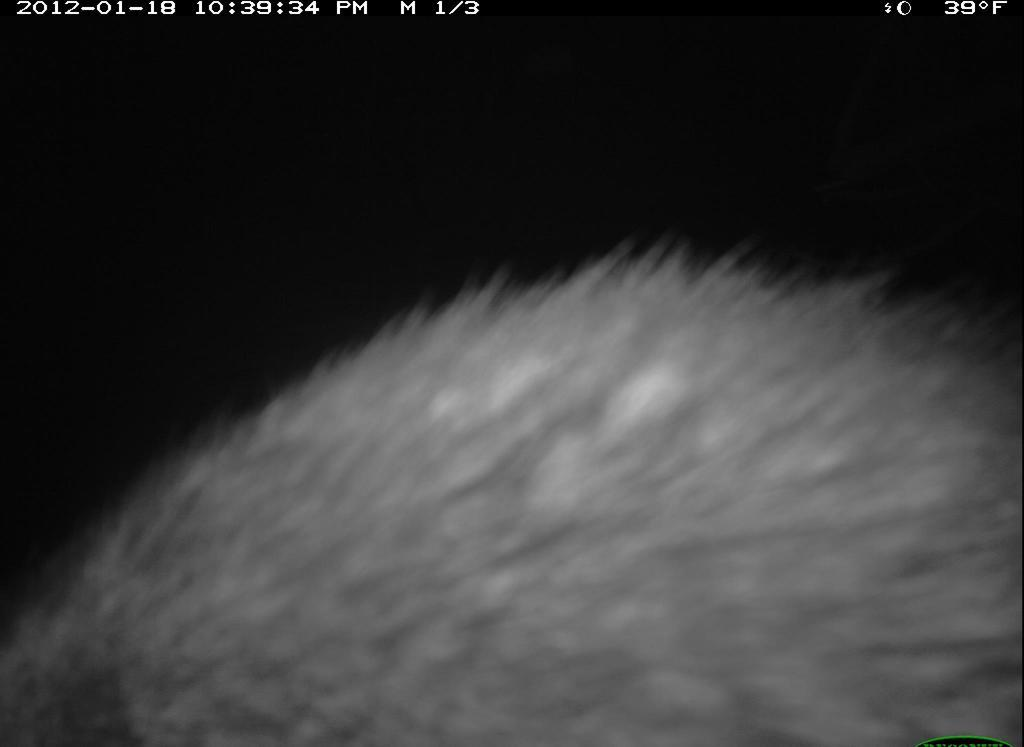raccoon: (11, 246, 1023, 747)
